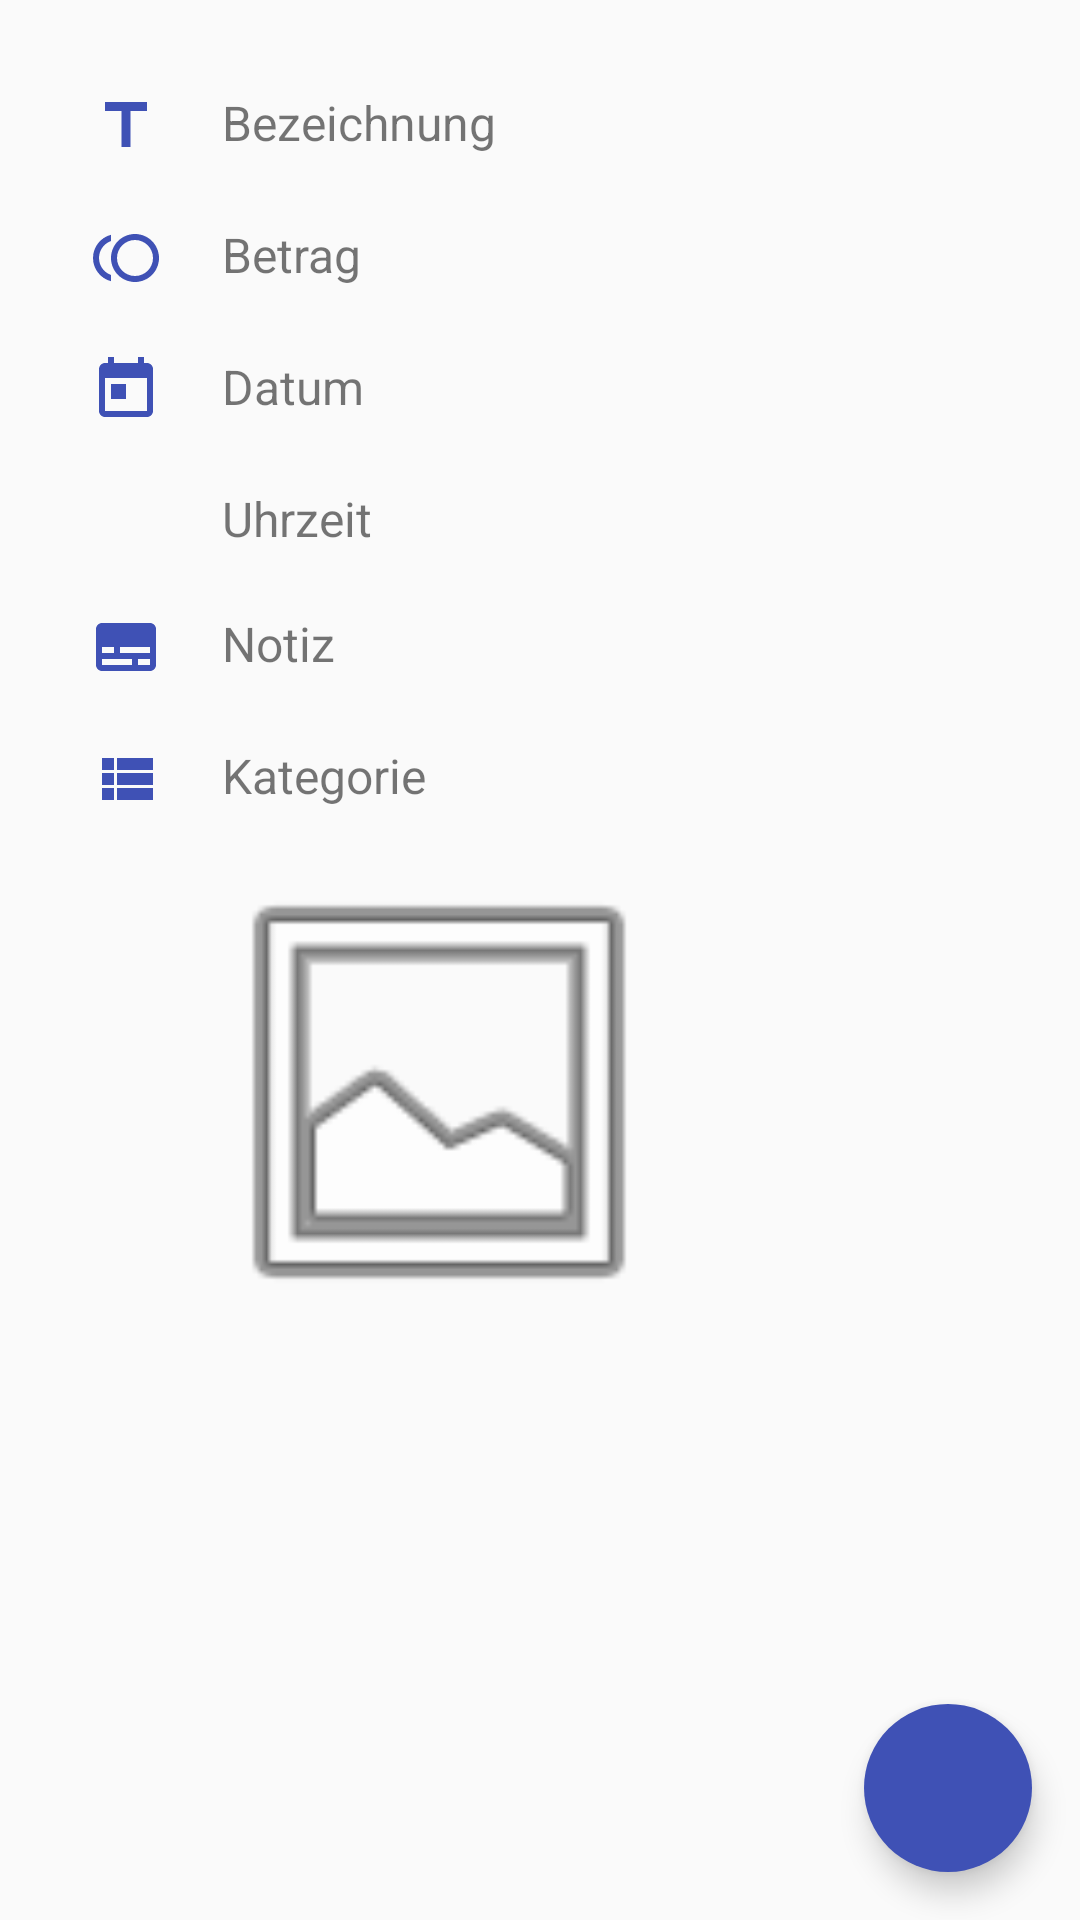

Where to tap for icons on this 1080*1920 app screen, as point (x, y):
category: point (127, 779)
subtitles: point (126, 647)
title: point (126, 124)
today: point (126, 387)
toll: point (126, 258)
